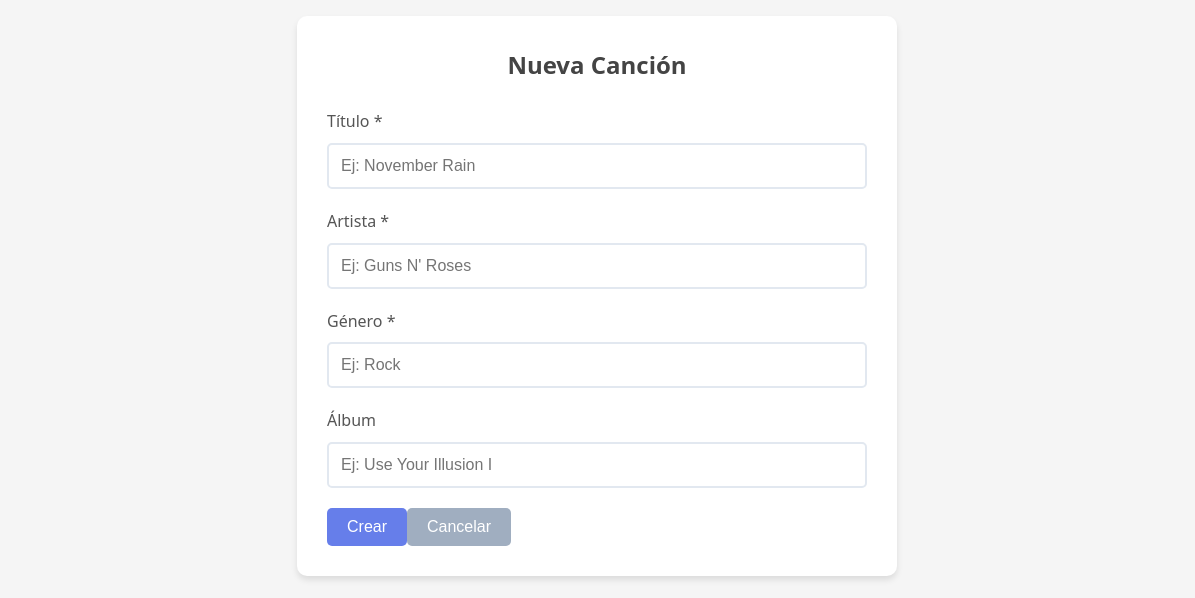
Test case: SongForm › crea la canción y vuelve al inicio
Type "Bailando" into the field labelled "Título *". click: [597, 166]
box: [327,143,867,189]
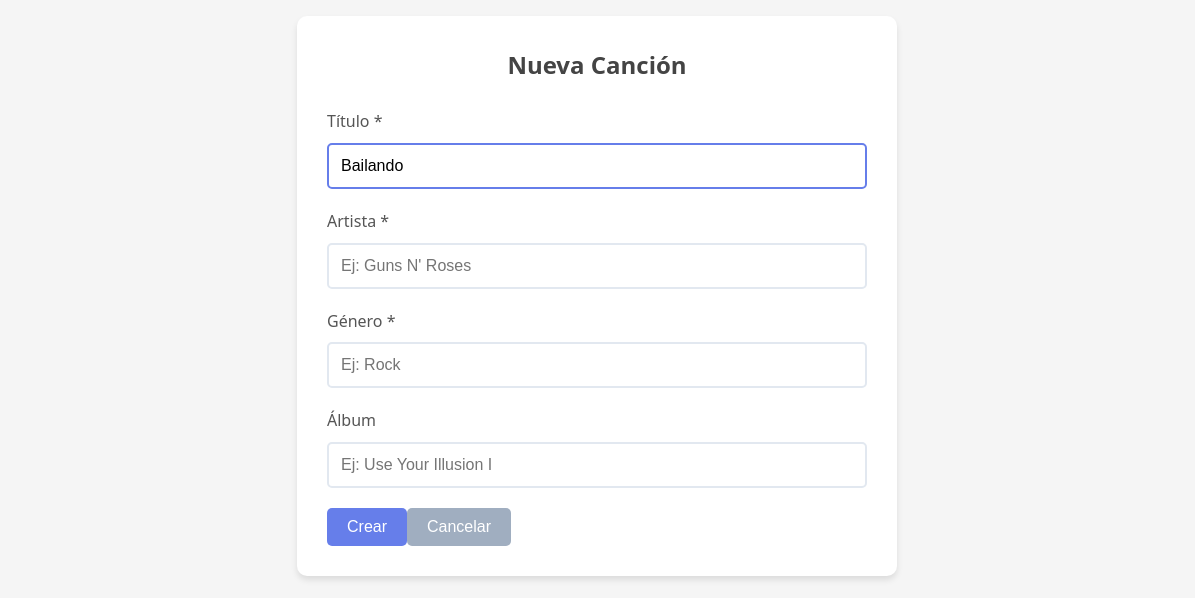
Type "Enrique" into the field labelled "Artista *". click: [597, 266]
box: [327,243,867,289]
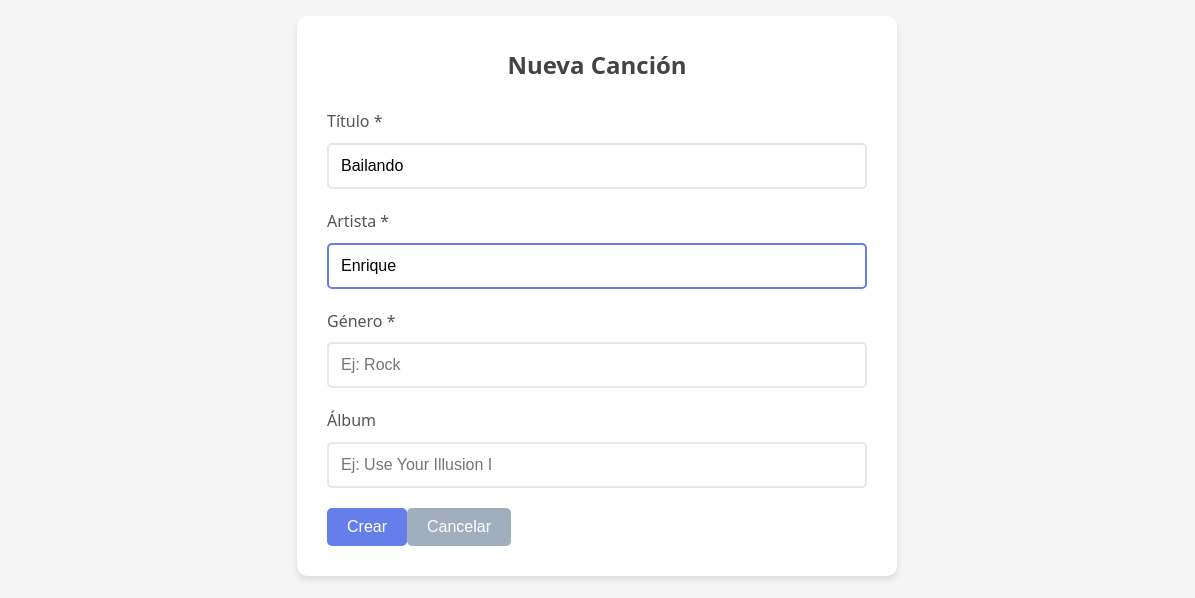
Type "Pop" into the field labelled "Género *". click: [597, 365]
box: [327,342,867,388]
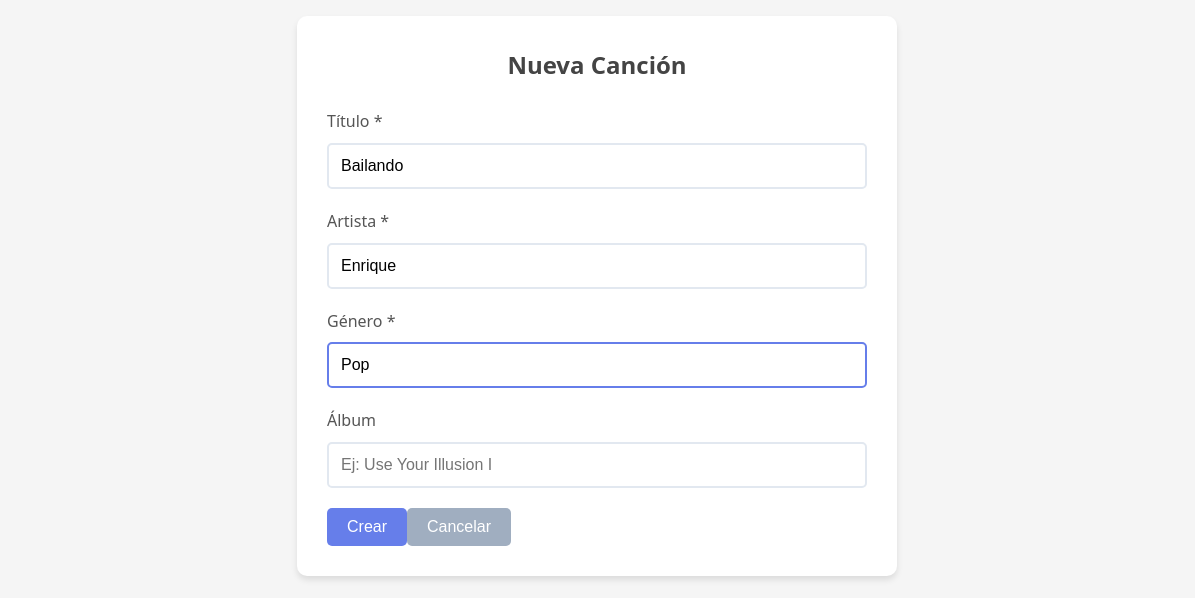
Click the button "Crear". click: [367, 527]
box: [327,508,407,546]
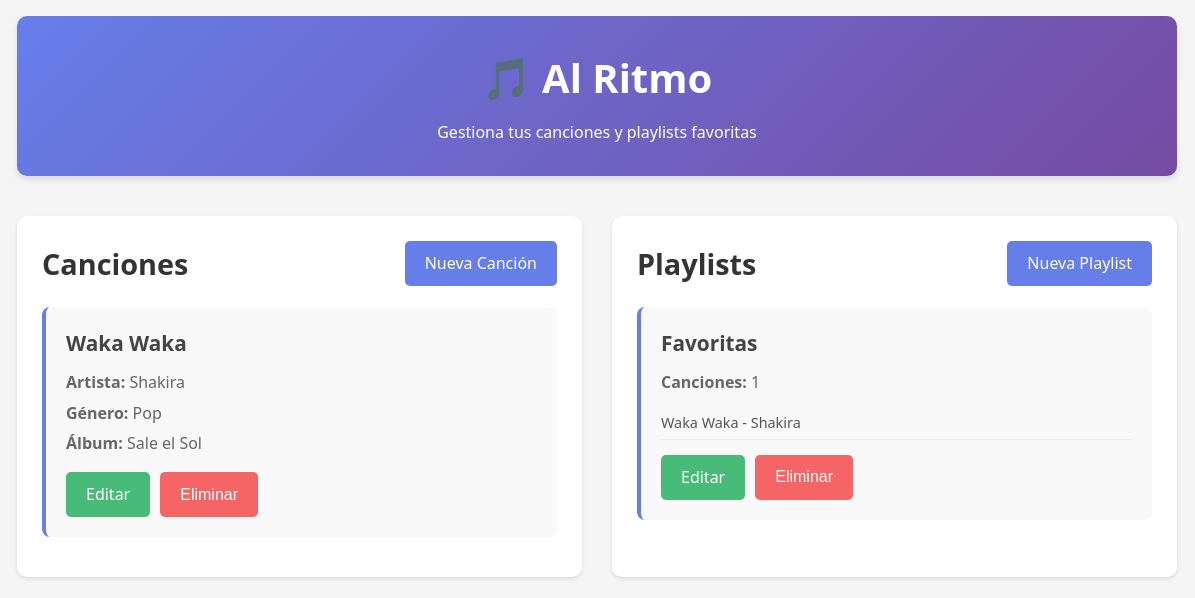
Result: the heading "🎵 Al Ritmo" is shown at [482,50,712,105]
